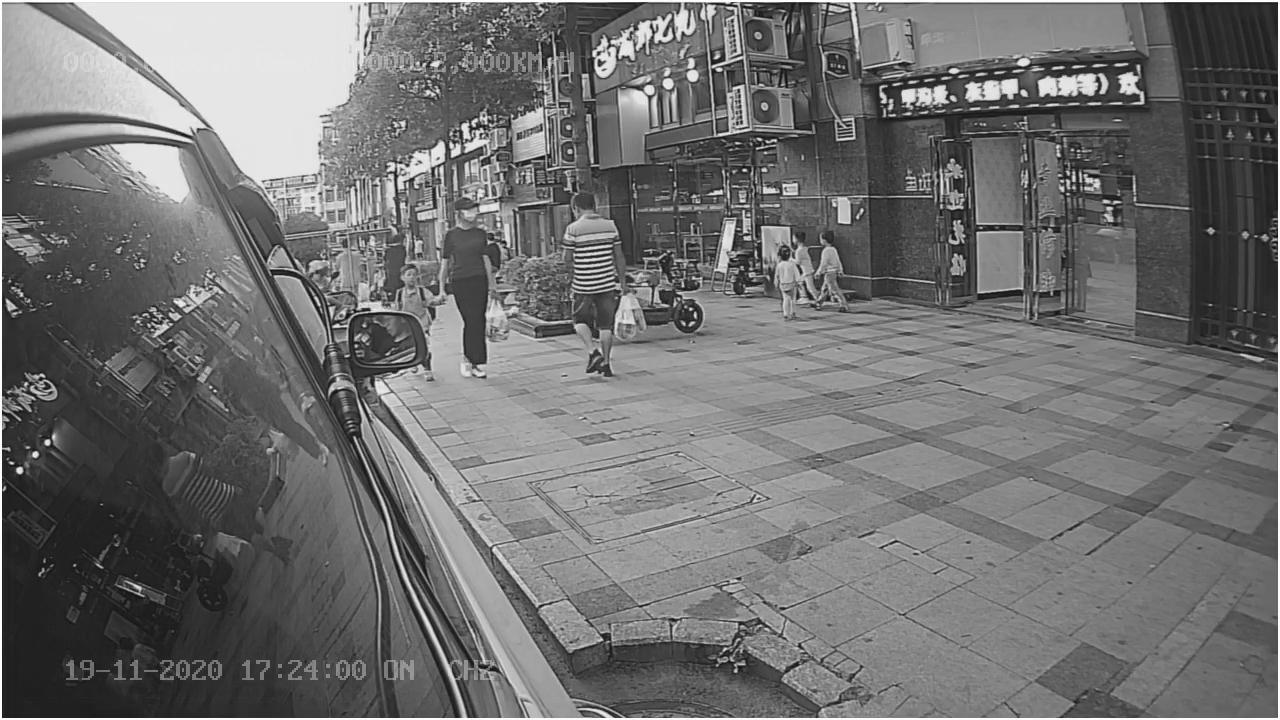person: (550, 192, 638, 381), (434, 192, 499, 383)
